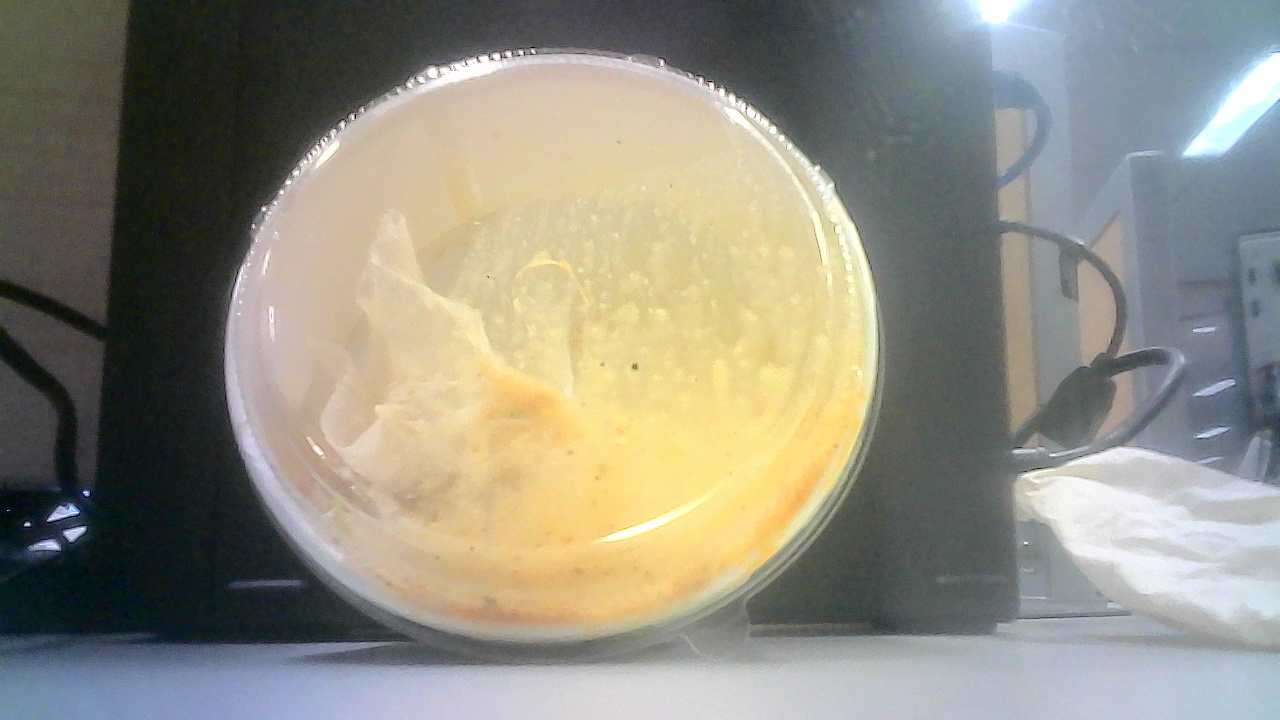Undefined_Waste: (214, 37, 893, 664)
